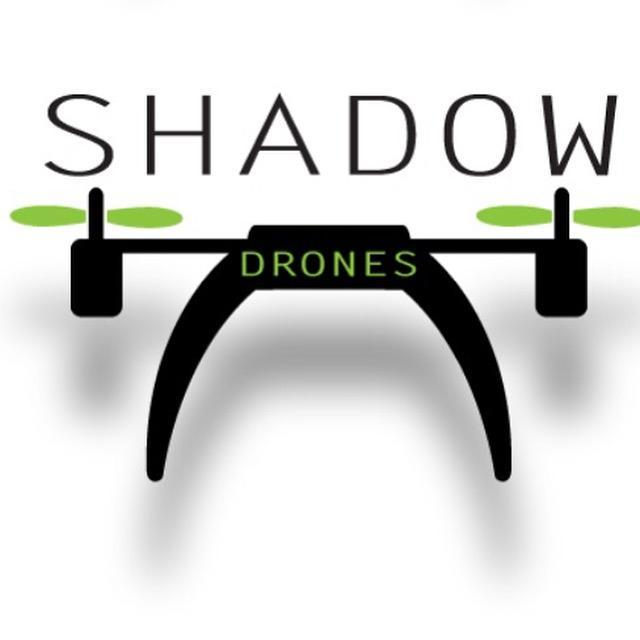drones: (13, 184, 640, 507)
